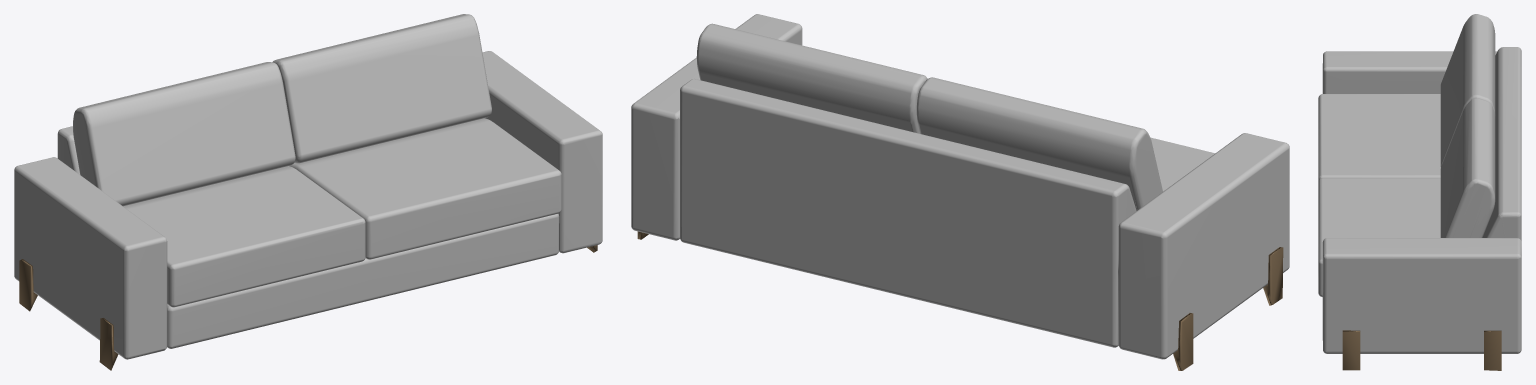
The model's file is sofa-modelo-duplo-quad.glb.
3 renders of one model, left to right at view 1: azimuth 30°, elevation 25°; view 2: azimuth 150°, elevation 25°; view 3: azimuth 270°, elevation 25°, orthographic. The views are drawn at different scales.
Parts seen in each view (by area): view 1: Modelo Duplo Quad; view 2: Modelo Duplo Quad; view 3: Modelo Duplo Quad.
Boxes of the visible parts, x1,y1,x2,y2 form: Modelo Duplo Quad: (14,14,602,370); Modelo Duplo Quad: (631,14,1289,370); Modelo Duplo Quad: (1318,14,1521,370).
Bounding box in the file's own units: 2.24 × 0.8516 × 0.9199.
